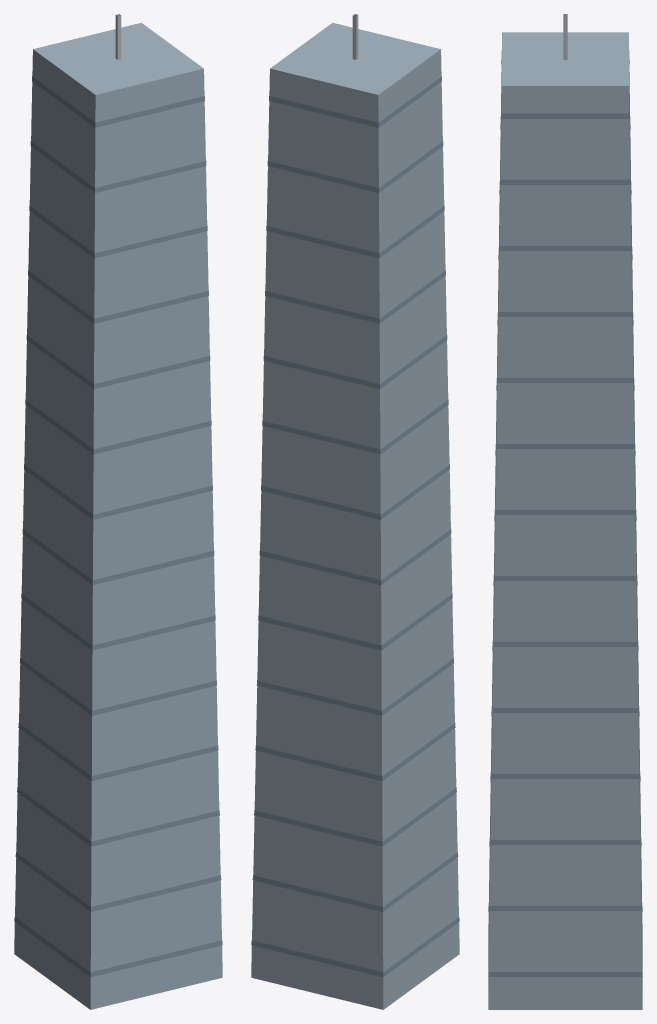
Rendered from torrecristal.glb.
The picture shows the model from 3 angles, left to right: view 1: azimuth 30°, elevation 25°; view 2: azimuth 150°, elevation 25°; view 3: azimuth 270°, elevation 25°; orthographic projection.
Size of the model in its own units: 38 by 261 by 38.
